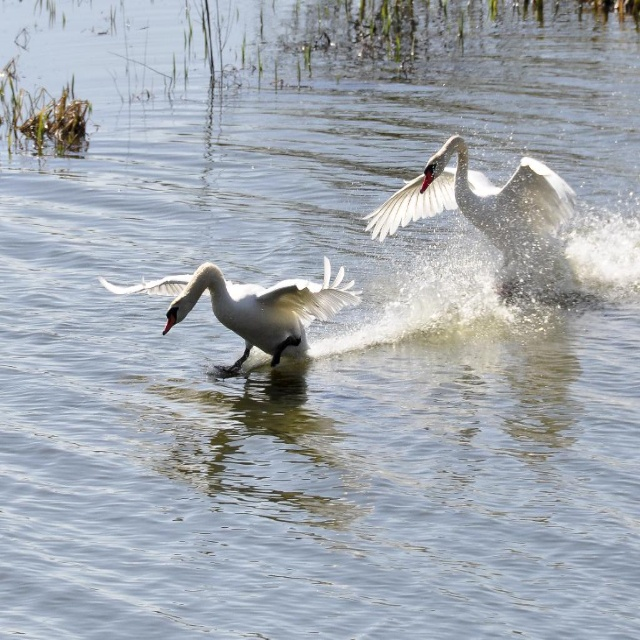Swan: (361, 135, 578, 299), (98, 256, 364, 375)
